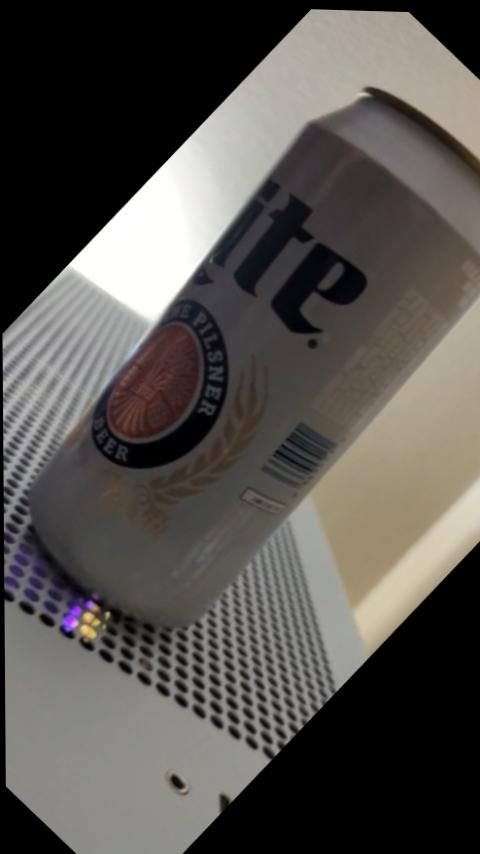metal: (30, 90, 479, 624)
